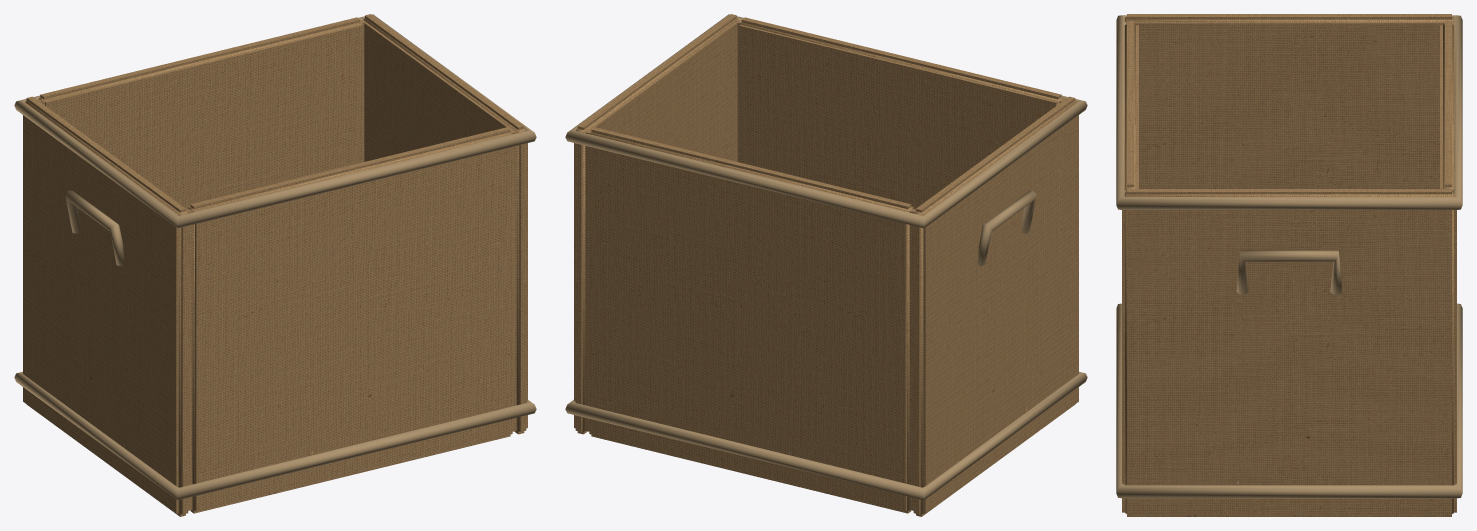
Rendered from shared.basket.gltf.
The picture shows the model from 3 angles, left to right: view 1: azimuth 30°, elevation 25°; view 2: azimuth 150°, elevation 25°; view 3: azimuth 270°, elevation 25°; orthographic projection. The views are drawn at different scales.
Visible parts, largest first — view 1: shared.basket.woven-bottom; view 2: shared.basket.woven-bottom; view 3: shared.basket.woven-bottom.
Boxes of the visible parts, x1,y1,x2,y2 form: shared.basket.woven-bottom: (14, 14, 536, 516); shared.basket.woven-bottom: (565, 14, 1087, 516); shared.basket.woven-bottom: (1116, 14, 1462, 516).
Size of the model in its own units: 0.3842 by 0.3 by 0.2895.
2 materials, 1 textured.
